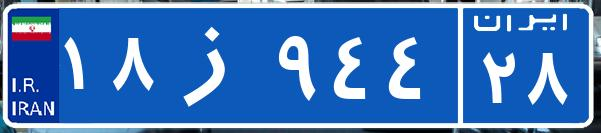1: (57, 26, 110, 107)
2: (475, 38, 525, 113)
4: (385, 28, 445, 110), (330, 28, 385, 110)
8: (110, 28, 158, 105), (525, 38, 570, 115)
9: (273, 28, 330, 110)
ز: (158, 15, 273, 115)
